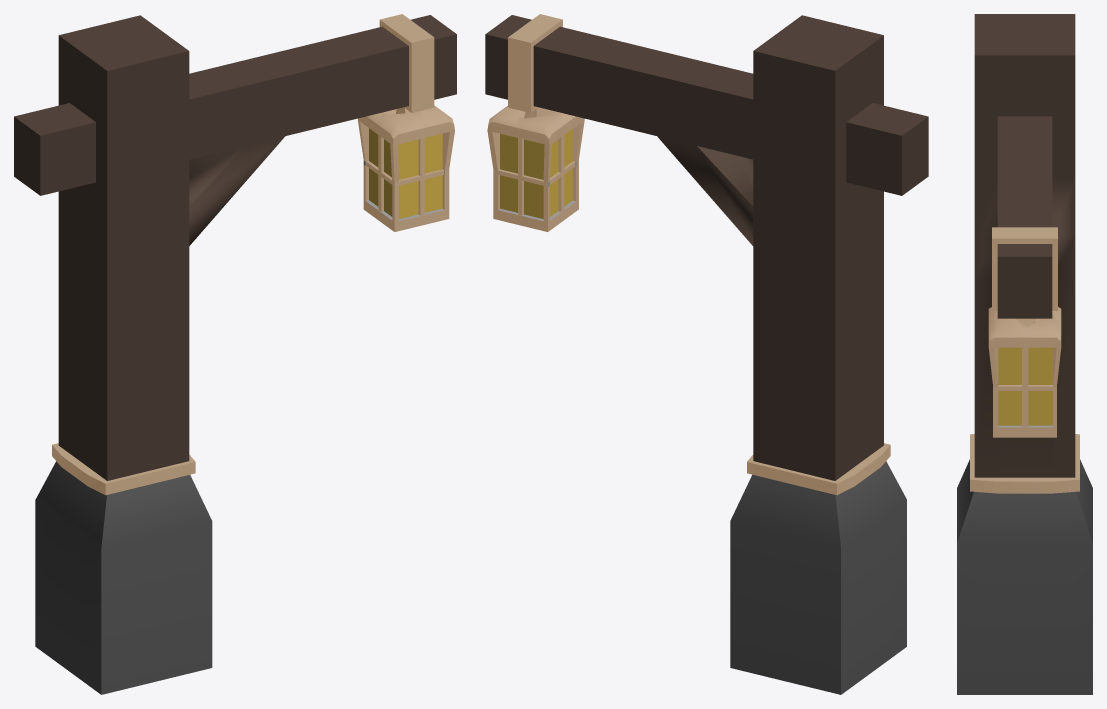
File: Lantern1.fbx
3 renders of one model, left to right at view 1: azimuth 30°, elevation 25°; view 2: azimuth 150°, elevation 25°; view 3: azimuth 270°, elevation 25°, orthographic. The views are drawn at different scales.
Parts seen in each view (by area): view 1: pCube3; view 2: pCube3; view 3: pCube3.
Part boxes in pixels (x1=…): pCube3: x1=14, y1=14, x2=456, y2=694; pCube3: x1=485, y1=14, x2=928, y2=694; pCube3: x1=957, y1=14, x2=1092, y2=694.
Bounding box in the file's own units: 3.28 × 4.62 × 0.9005.
